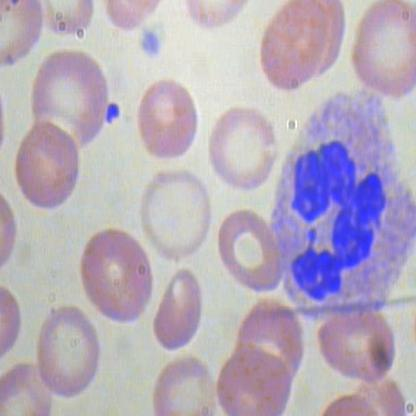Platelets: (136, 23, 166, 61), (100, 100, 122, 126)
RBC: (28, 42, 112, 158), (78, 223, 156, 326), (138, 162, 216, 263), (254, 1, 336, 95), (206, 102, 282, 198), (30, 300, 100, 403), (312, 306, 404, 384), (346, 1, 416, 101), (215, 205, 288, 298), (13, 119, 84, 214), (130, 76, 198, 166), (211, 346, 291, 415), (154, 267, 202, 360), (152, 350, 219, 415)
WBC: (260, 84, 416, 324)
